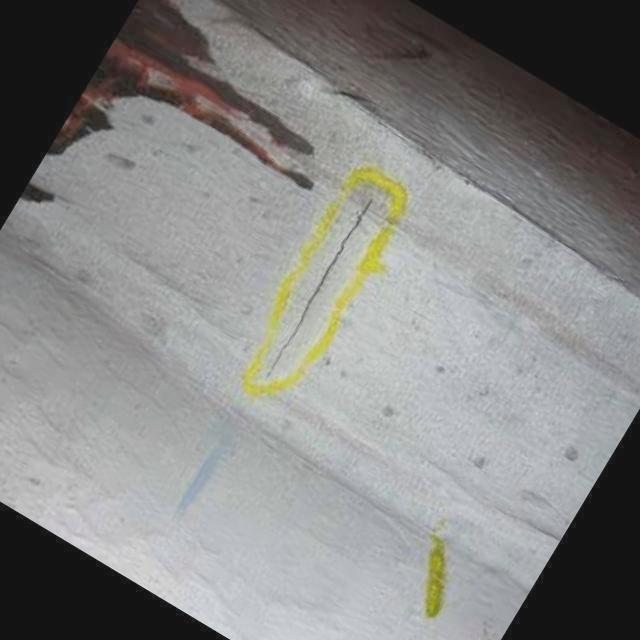defect: (262, 196, 375, 388)
